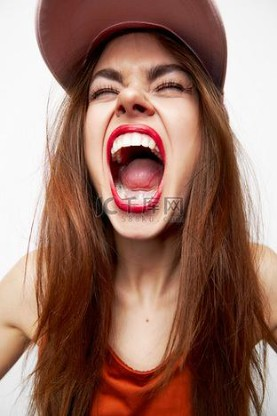张嘴: (101, 125, 171, 210)
